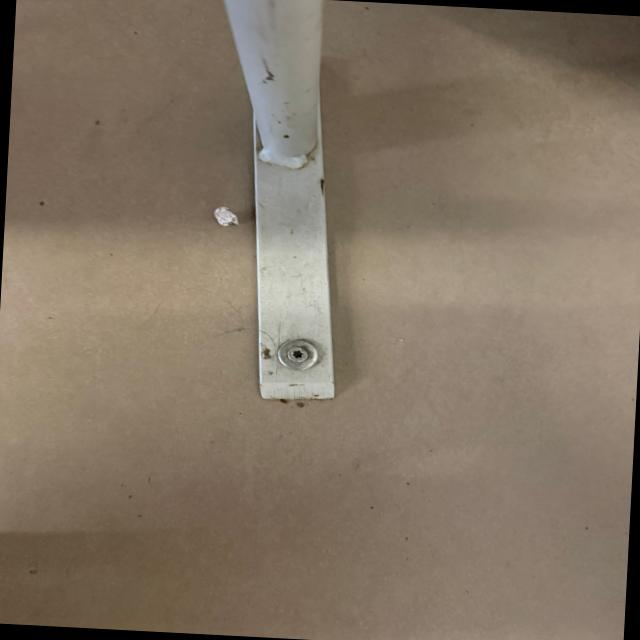Torx: (274, 340, 318, 370)
